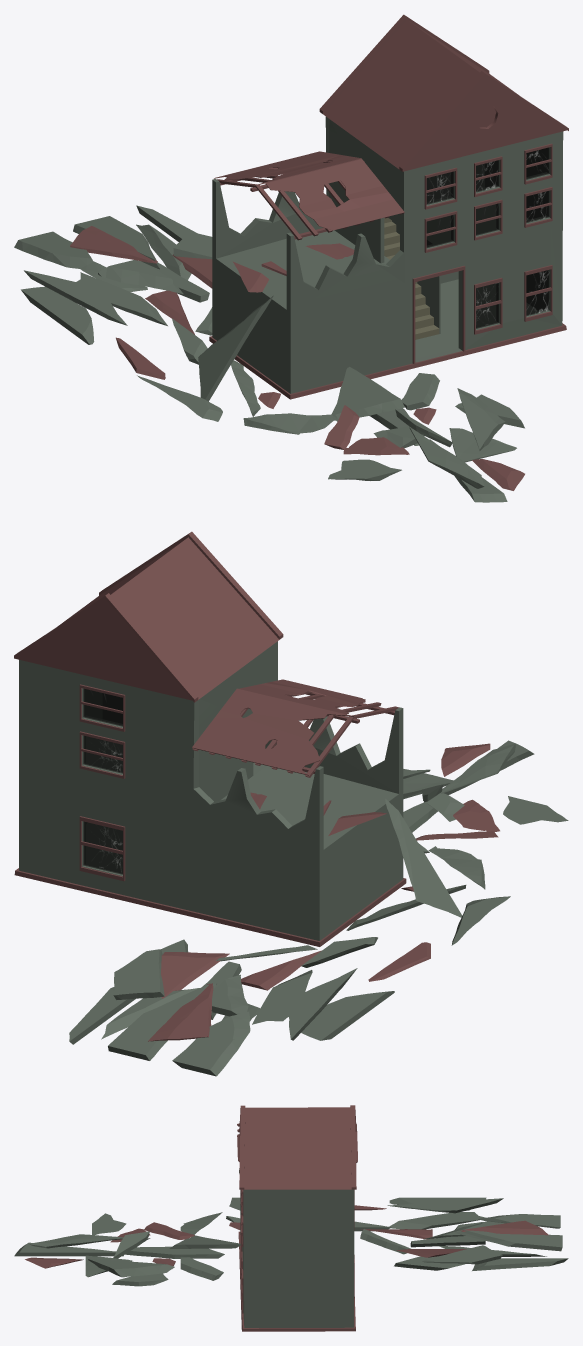
Rendered from house6.fbx.
3 views of the same model, one above another, from view 1: azimuth 30°, elevation 25°; view 2: azimuth 150°, elevation 25°; view 3: azimuth 270°, elevation 25° (orthographic). The views are drawn at different scales.
Parts seen in each view (by area): view 1: polySurface52; view 2: polySurface52; view 3: polySurface52.
Part boxes in pixels (x1,y1,x2,y2): polySurface52: (14,14,568,502); polySurface52: (14,531,568,1076); polySurface52: (14,1105,568,1331).
Size of the model in its own units: 1535 by 1089 by 2748.
Materials: 4 (1 with a texture image).
